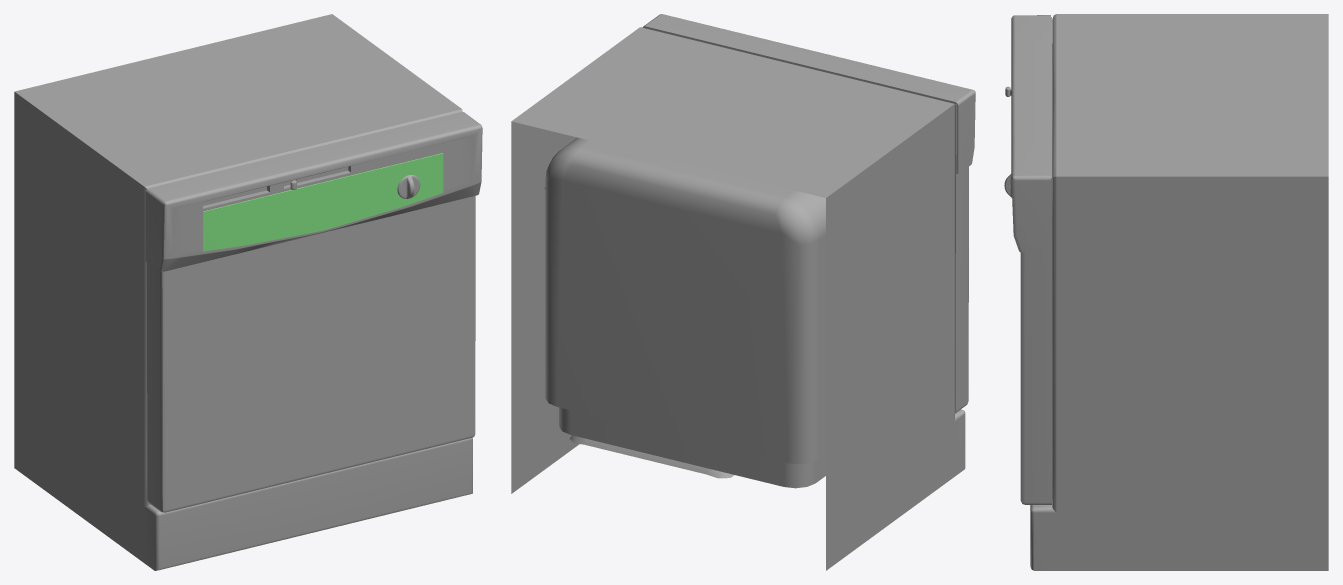
File: Dishwasher_1.fbx
3 renders of one model, left to right at view 1: azimuth 30°, elevation 25°; view 2: azimuth 150°, elevation 25°; view 3: azimuth 270°, elevation 25°, orthographic. The views are drawn at different scales.
Parts seen in each view (by area): view 1: Dishwasher_Body, Dishwasher_Door1; view 2: Dishwasher_Body, Dishwasher_Door1; view 3: Dishwasher_Body, Dishwasher_Door1.
Boxes of the visible parts, bbox=[...] form: Dishwasher_Body: bbox=[14, 14, 472, 570]; Dishwasher_Door1: bbox=[145, 112, 482, 512]; Dishwasher_Body: bbox=[511, 27, 965, 570]; Dishwasher_Door1: bbox=[642, 14, 975, 413]; Dishwasher_Body: bbox=[1030, 14, 1328, 570]; Dishwasher_Door1: bbox=[1011, 15, 1052, 504].
Bounding box in the file's own units: 68.91 × 77.57 × 57.74.
